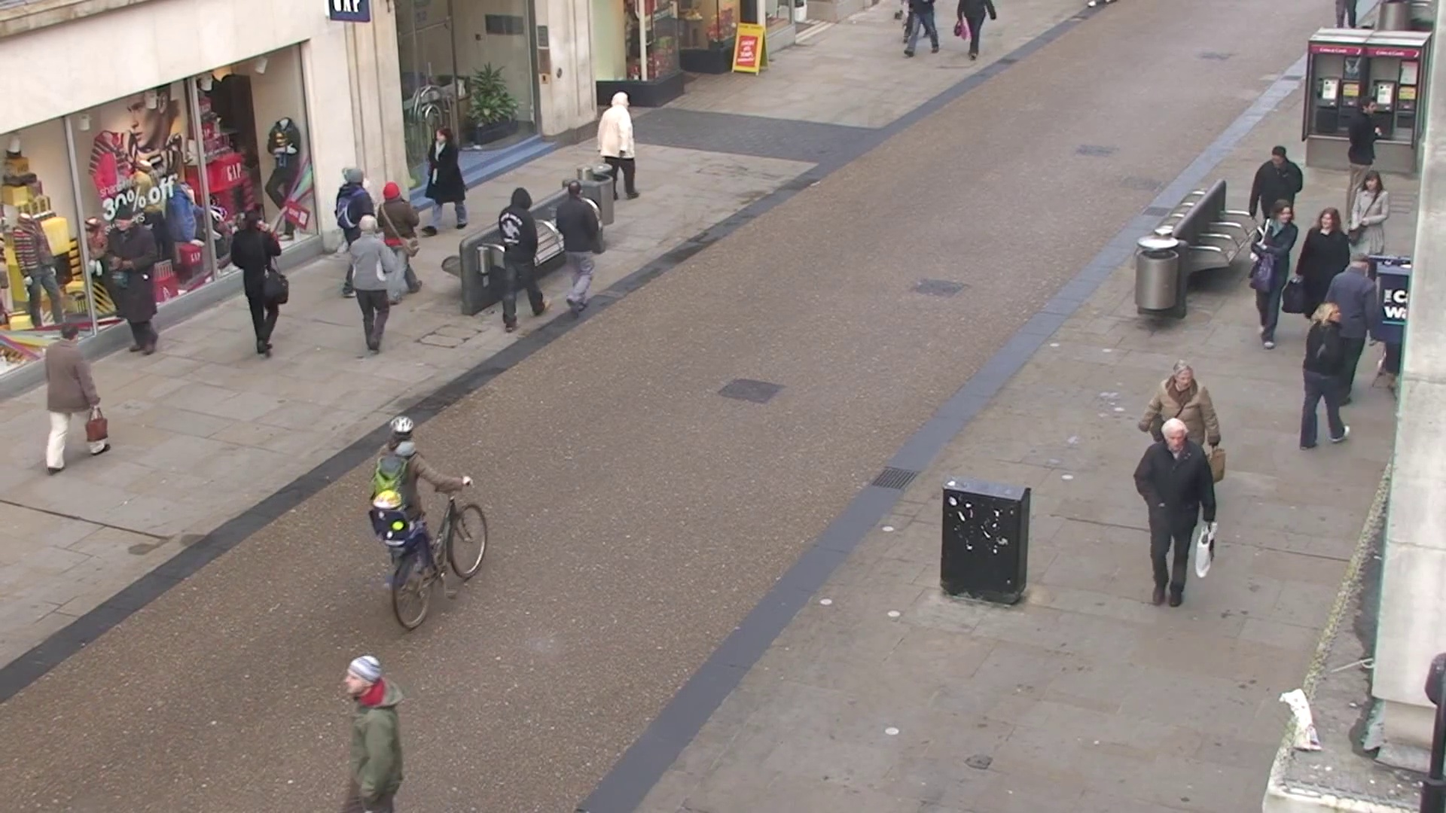person: (357, 401, 444, 605), (1133, 416, 1217, 608), (1139, 360, 1225, 481), (40, 327, 111, 473), (227, 206, 290, 357), (346, 656, 404, 812), (1326, 250, 1384, 400), (343, 216, 405, 356), (1300, 303, 1358, 449), (546, 174, 605, 315), (494, 187, 551, 329), (1249, 205, 1301, 349), (1291, 207, 1350, 327), (379, 181, 421, 294), (1249, 144, 1304, 230), (598, 90, 640, 200), (427, 127, 468, 231), (334, 168, 377, 246)
